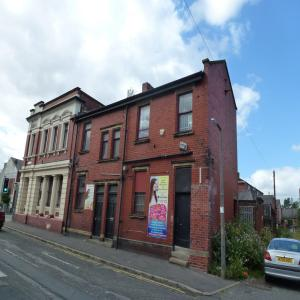Vehicle-registration-plate: (279, 257, 293, 265)
